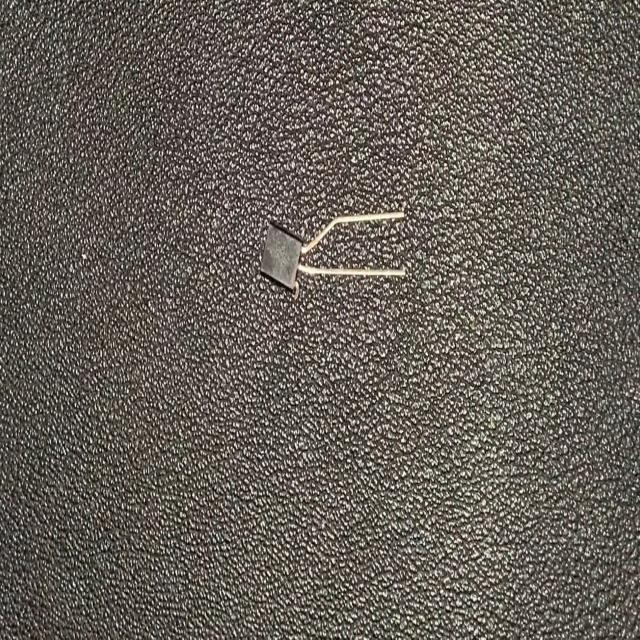missing-leg: (258, 209, 410, 307)
